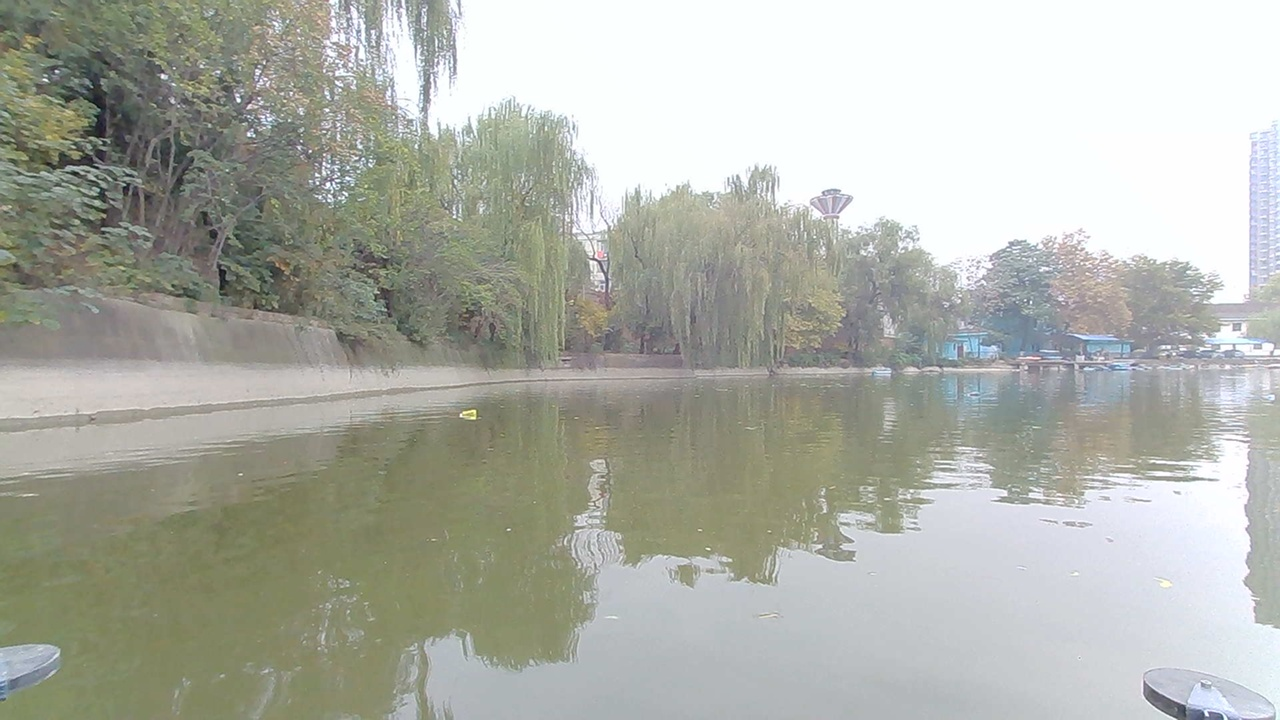bottle: (454, 405, 488, 428), (961, 389, 990, 404)
